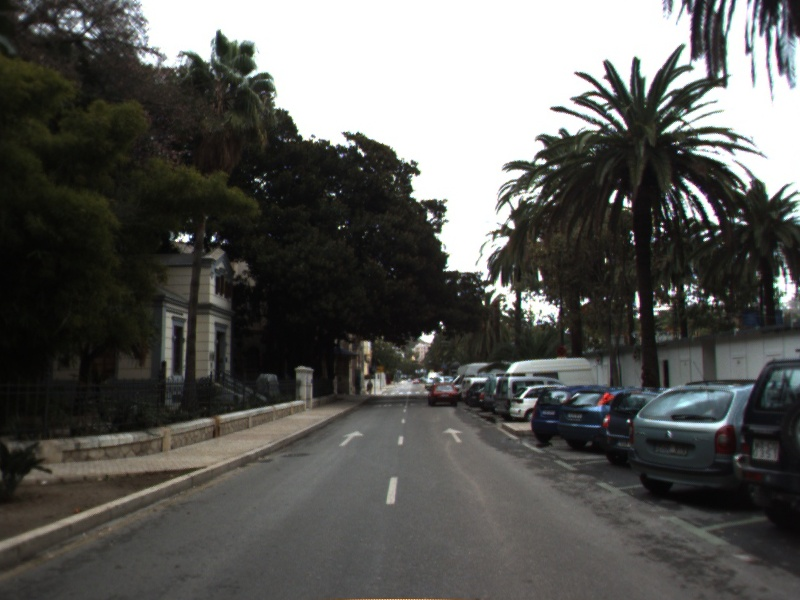STRAIGHT: (336, 429, 366, 449), (441, 425, 465, 445)
